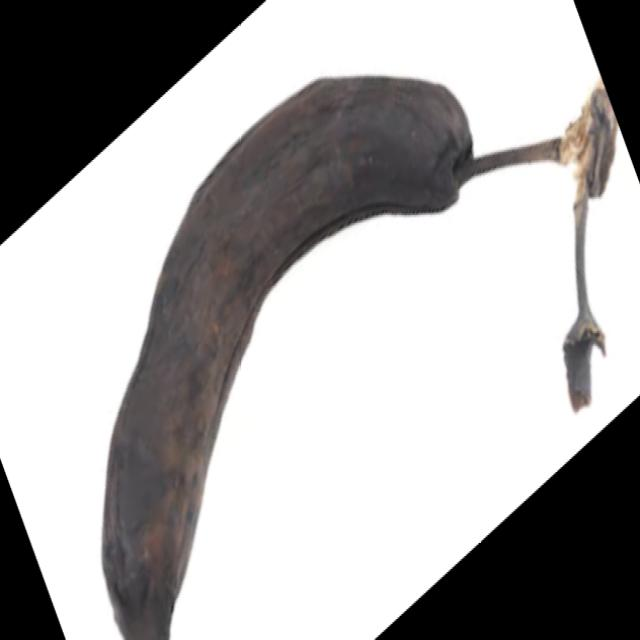Rotten: (101, 73, 560, 640)
